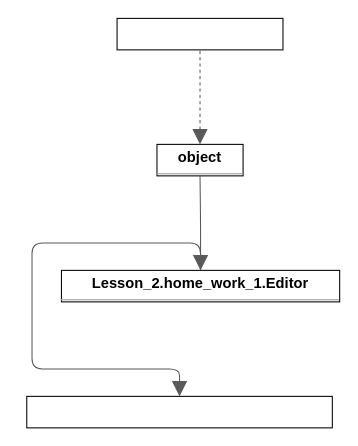
Image size: 358x446. Some labels were removed from this diagram. The centre of each missing label's shape, as x and y in pixels:
Lesson_2.home_work_1.ProEditor: (x=179, y=411)
typing.Hashable: (x=199, y=33)
